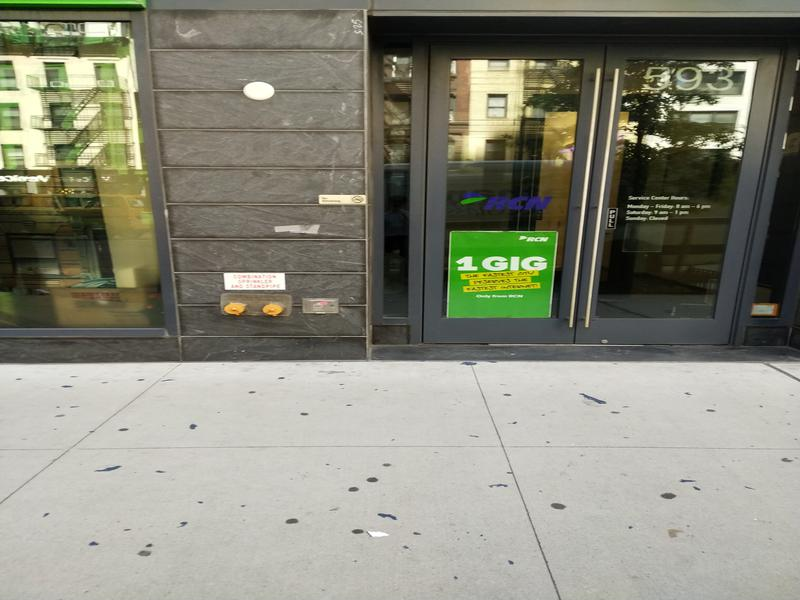double_door: (422, 32, 772, 351)
